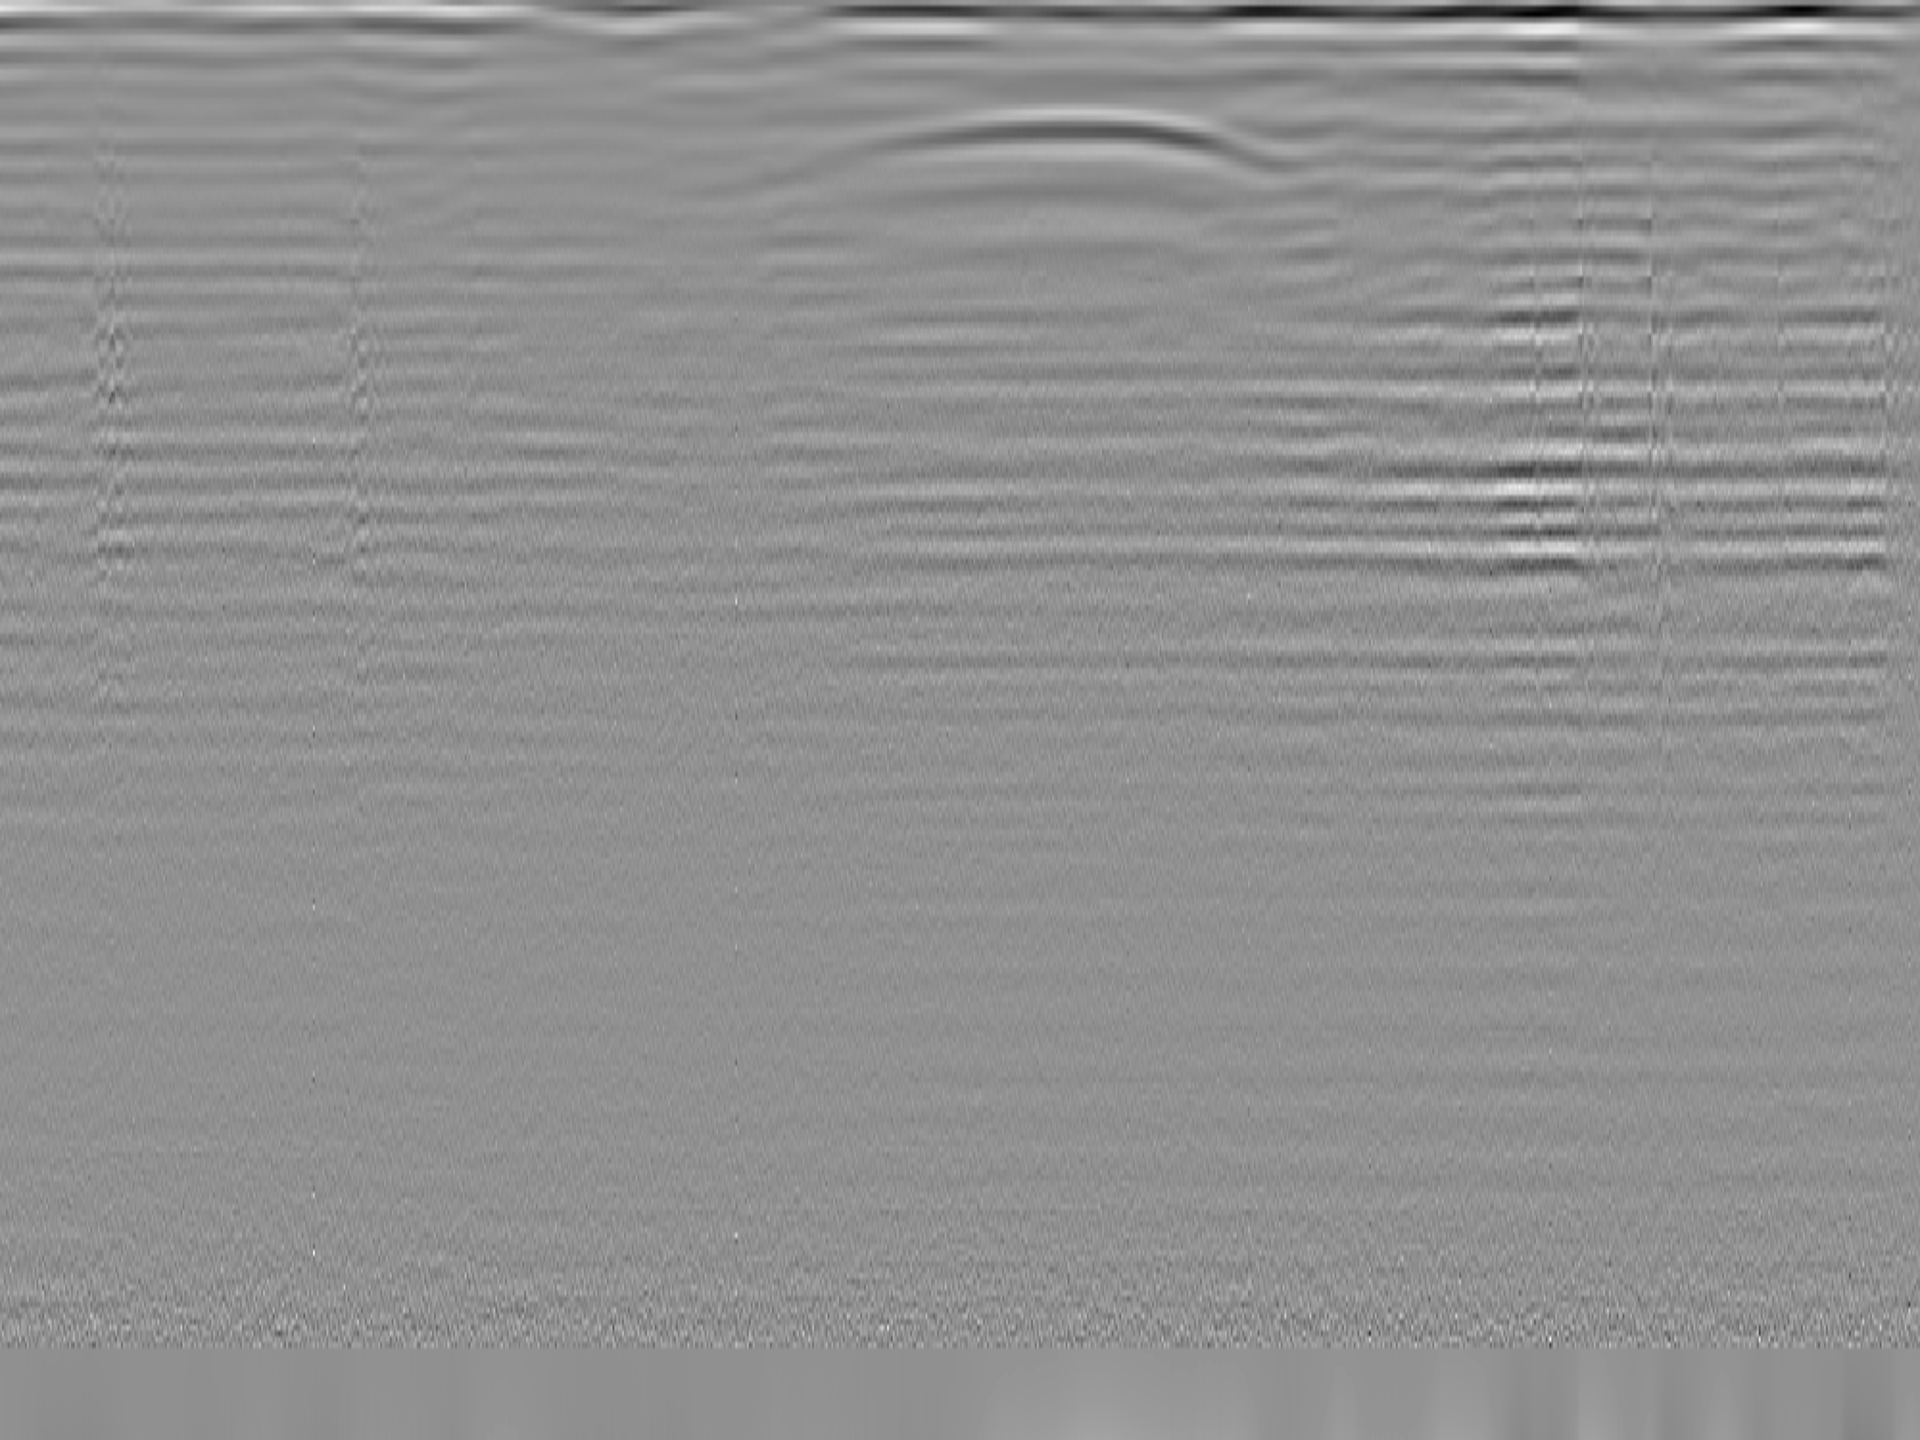Tunnel: (724, 109, 1341, 191)
